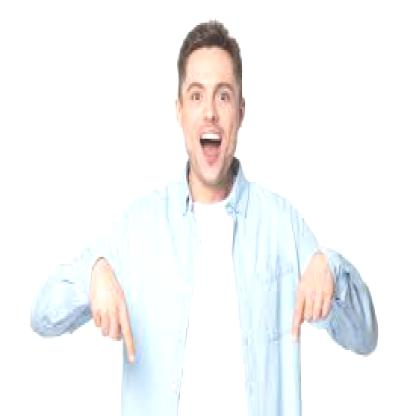Down: (94, 262, 142, 360), (289, 254, 335, 350)
